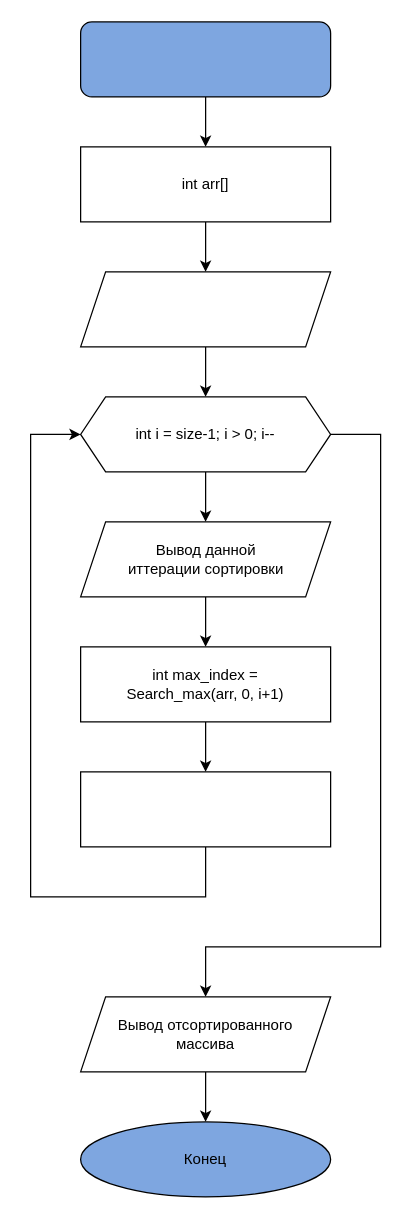
Image size: 413x1219. Some labels were removed from this diagram. Each missing label, with the centre of its shape:
swap(arr[max_index], arr[i]): [205,809]
Вывод исходного массива: [205,309]
Начало: [205,59]
